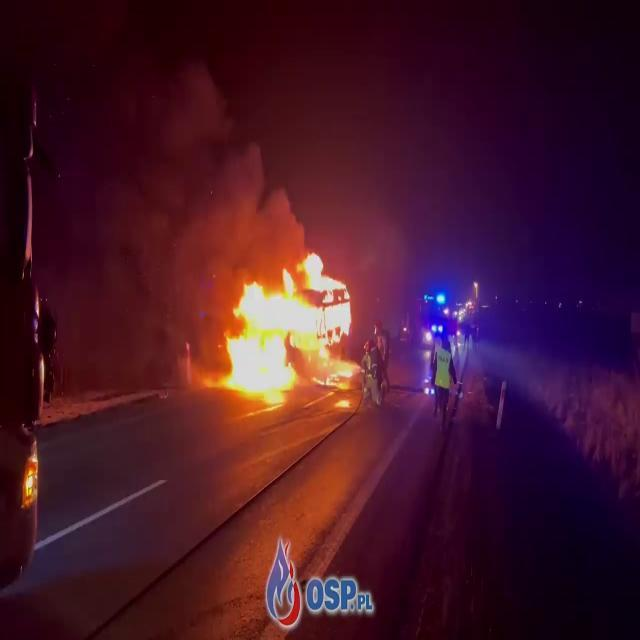Fire: (216, 248, 355, 402), (22, 438, 40, 508)
Smoke: (48, 5, 284, 391)
